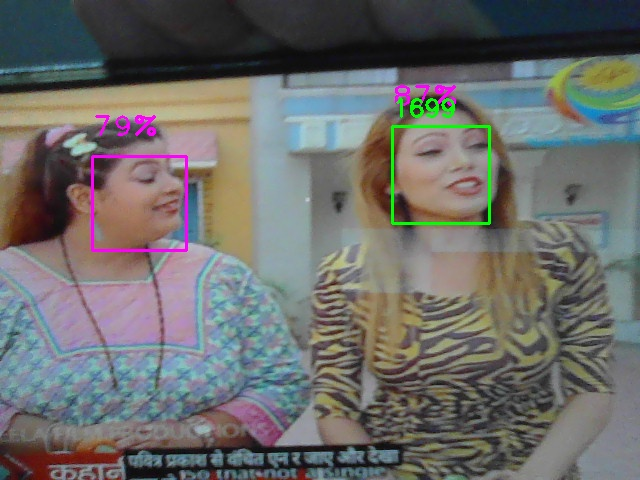fake: (392, 126, 490, 224)
